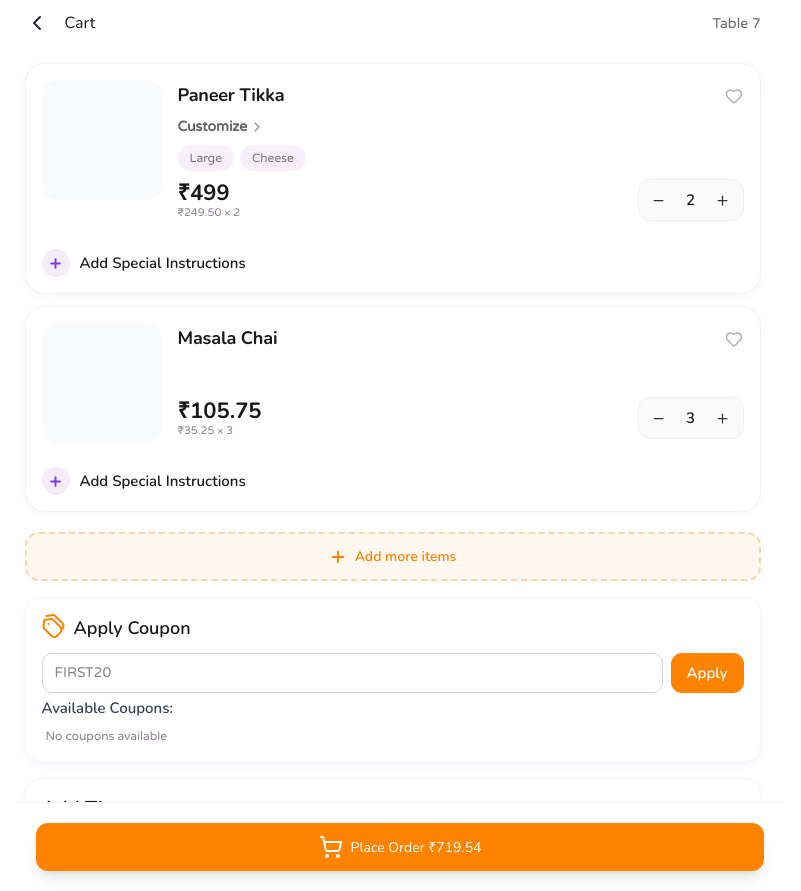
Test: Cart — coupon › rejection "Usage limit reached" is shown inline as {} and no discount is applied
The width and height of the screenshot is (801, 891).
Type "X" into the field named "Coupon code" at (352, 673), box [42,653,662,693]
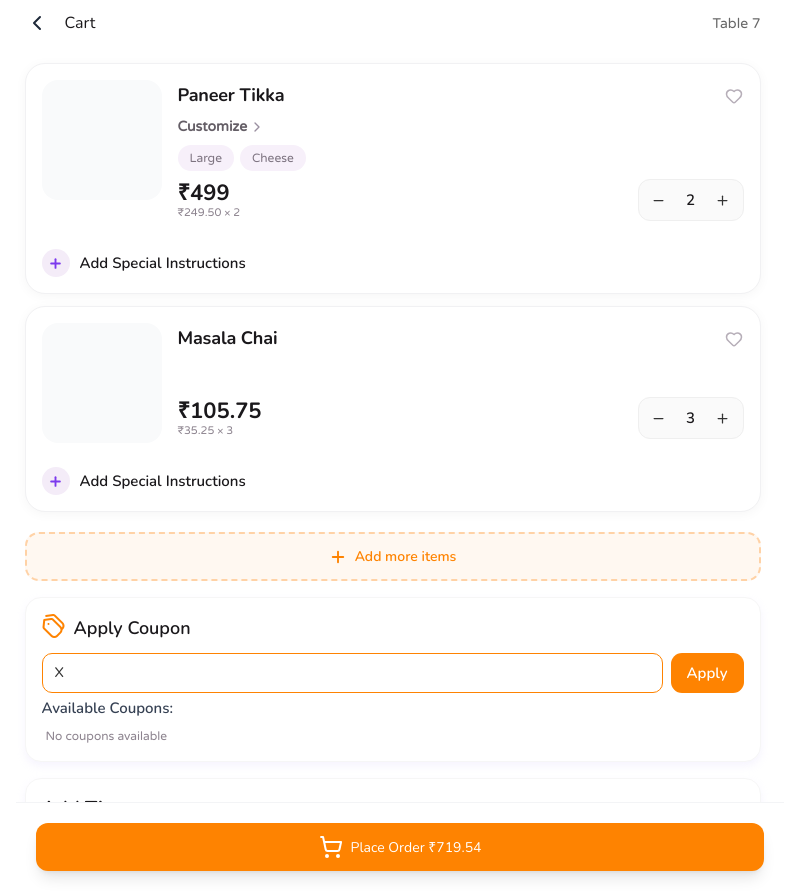
Click the button "Apply" at (707, 673), box [670,653,744,693]
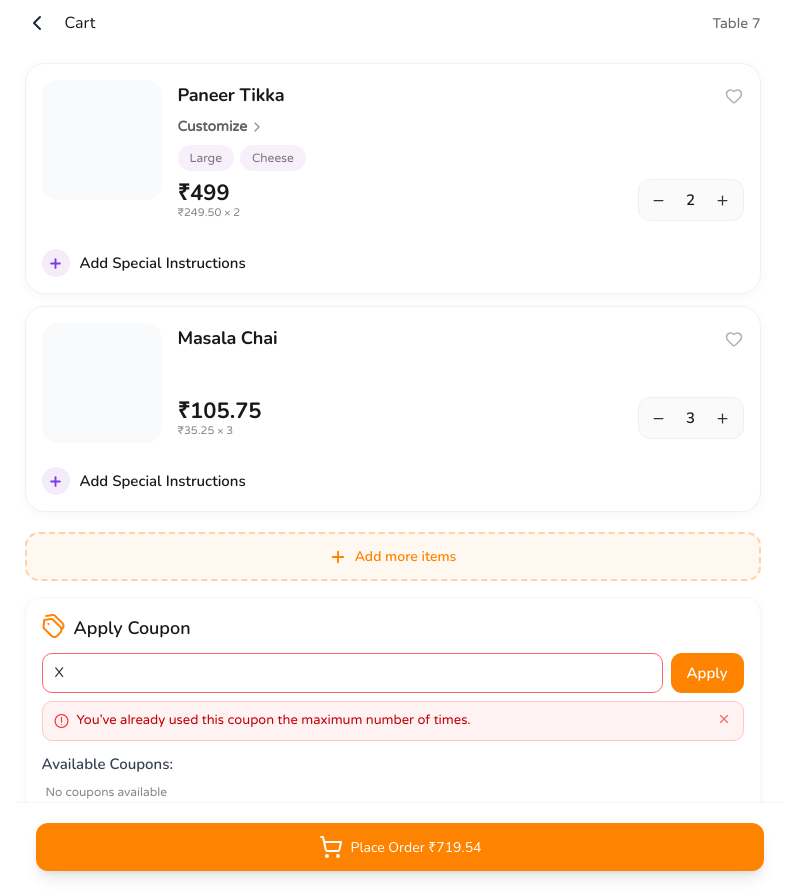
Now the message shows "already used this coupon", box [76,712,471,728]
